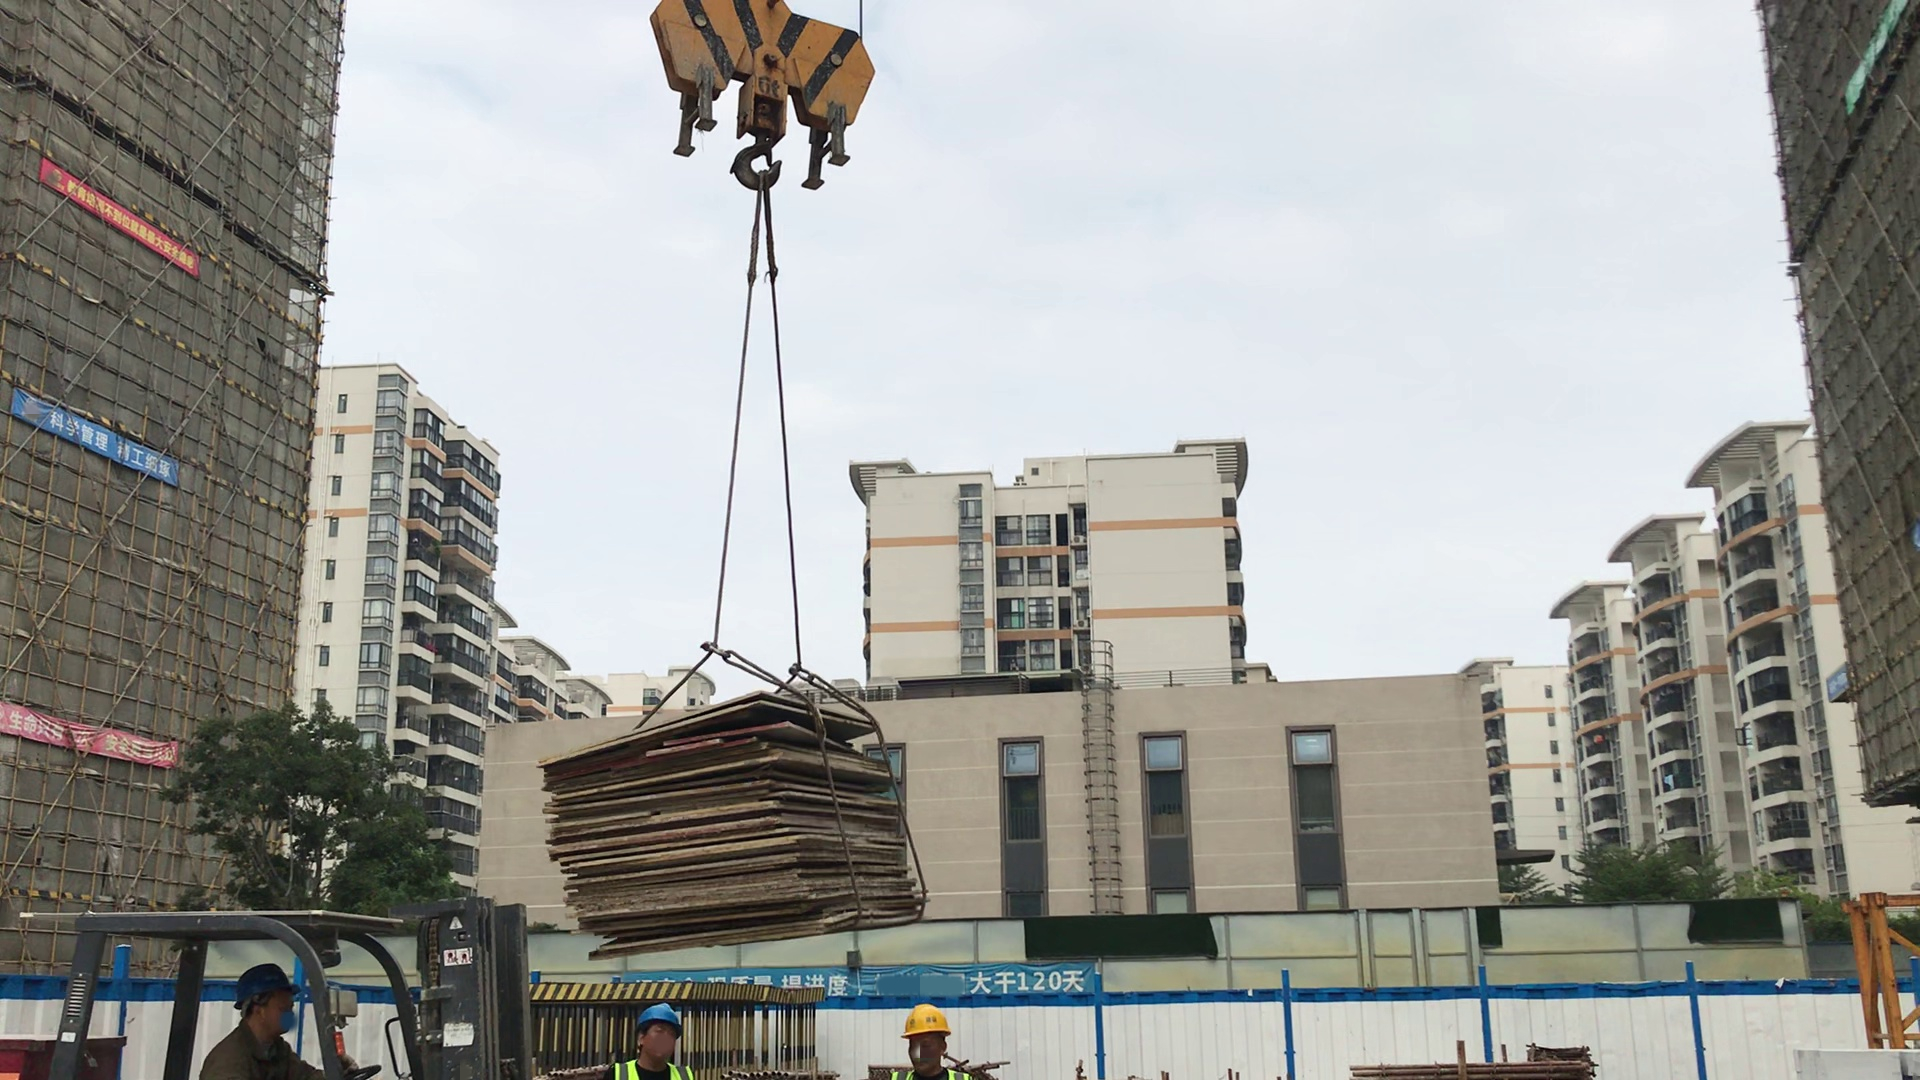board: (510, 677, 1002, 999)
brick: (1791, 1034, 1920, 1078)
helmet: (217, 956, 312, 1022), (900, 995, 962, 1042), (633, 997, 696, 1041)
hook: (610, 5, 923, 241)
person: (192, 947, 350, 1080), (597, 985, 716, 1080), (886, 988, 1006, 1080)
scaffold: (1345, 1045, 1615, 1080)
slogan: (613, 958, 1113, 1029), (26, 145, 214, 287), (1, 670, 198, 805), (6, 369, 204, 503), (1834, 1, 1920, 118), (1822, 662, 1869, 711)
vest: (609, 1047, 694, 1080), (878, 1055, 987, 1080)
